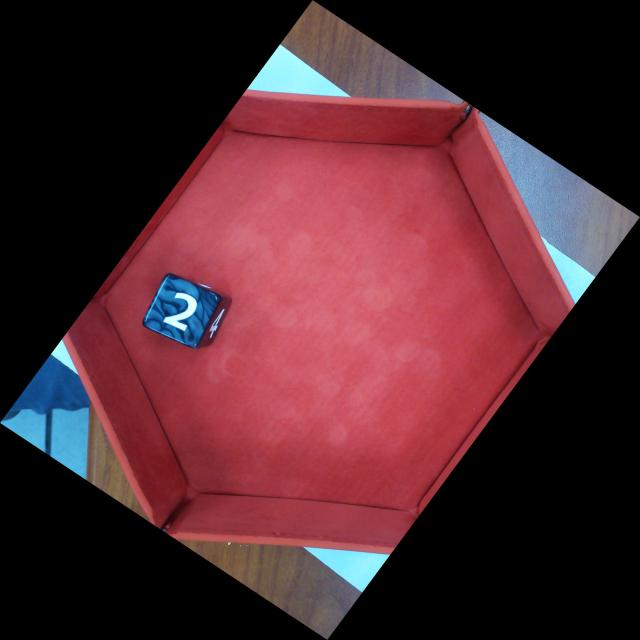dice: (145, 272, 226, 350)
